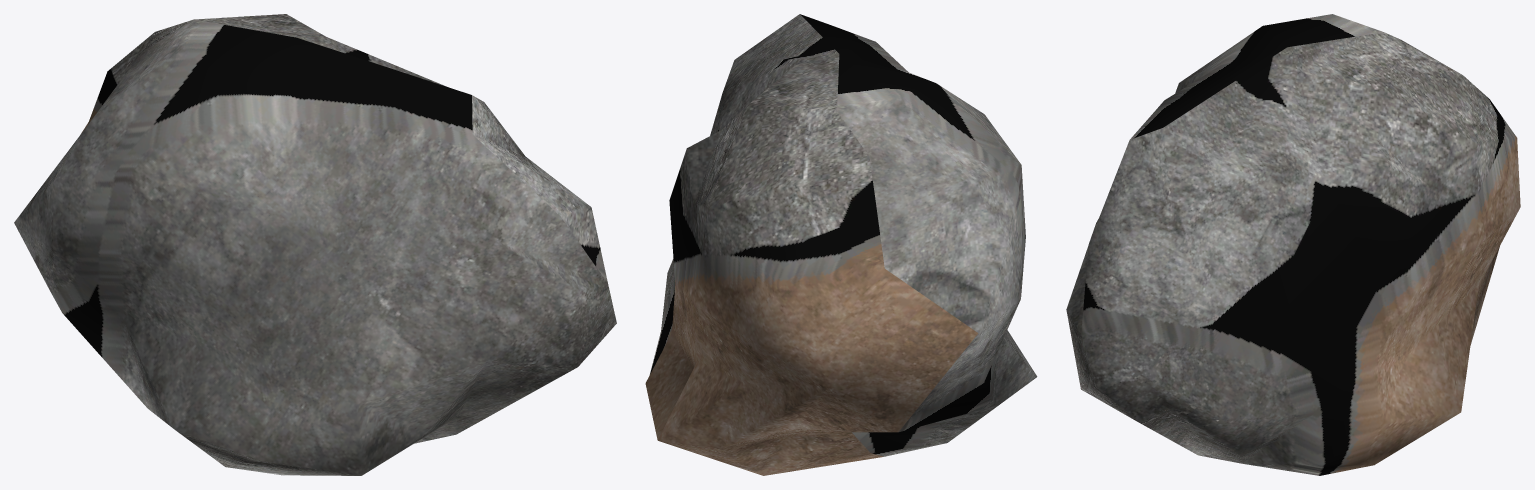
The model's file is asteroid1.fbx.
The picture shows the model from 3 angles, left to right: view 1: azimuth 30°, elevation 25°; view 2: azimuth 150°, elevation 25°; view 3: azimuth 270°, elevation 25°; orthographic projection. The views are drawn at different scales.
Parts seen in each view (by area): view 1: PipelineFBX; view 2: PipelineFBX; view 3: PipelineFBX.
Part boxes in pixels (x1,y1,x2,y2): PipelineFBX: [14, 14, 616, 475]; PipelineFBX: [645, 14, 1037, 475]; PipelineFBX: [1066, 14, 1520, 475].
Size of the model in its own units: 330 by 308 by 324.
1 material, 1 textured.
